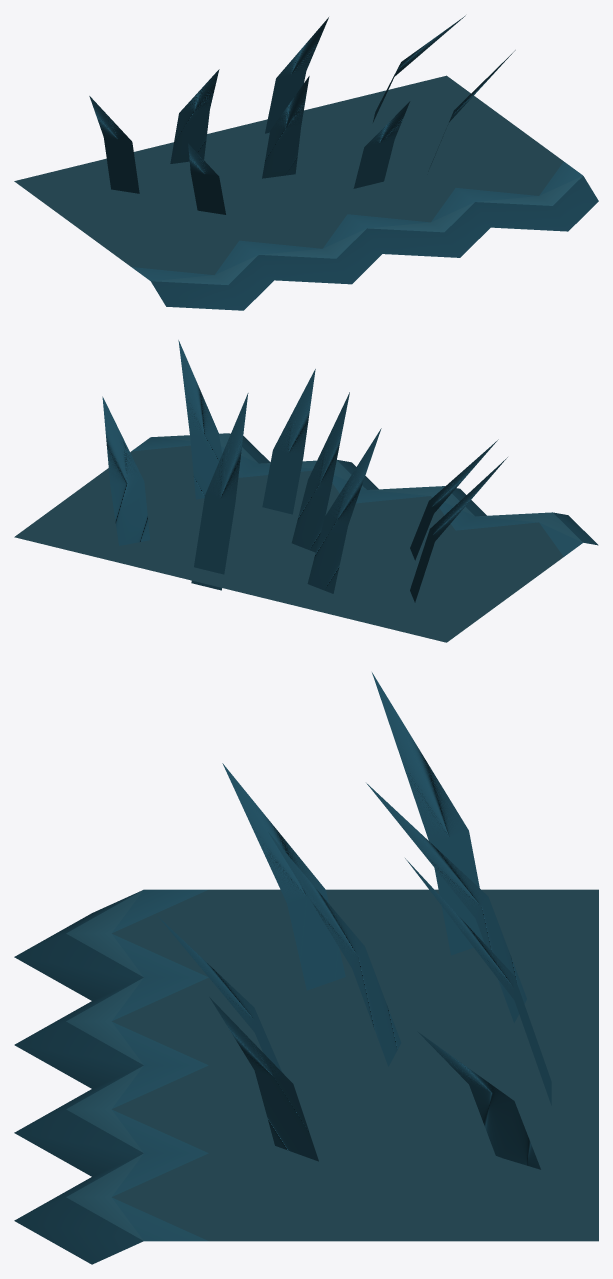
3 views of the same model, one above another, from view 1: azimuth 30°, elevation 25°; view 2: azimuth 150°, elevation 25°; view 3: azimuth 270°, elevation 25° (orthographic). The views are drawn at different scales.
Parts seen in each view (by area): view 1: 32144; view 2: 32144; view 3: 32144.
Boxes of the visible parts, left/top/right/bottom form: 32144: left=14, top=15, right=598, bottom=310; 32144: left=14, top=340, right=598, bottom=642; 32144: left=14, top=672, right=598, bottom=1264.
Bounding box in the file's own units: 128 × 45 × 90.
